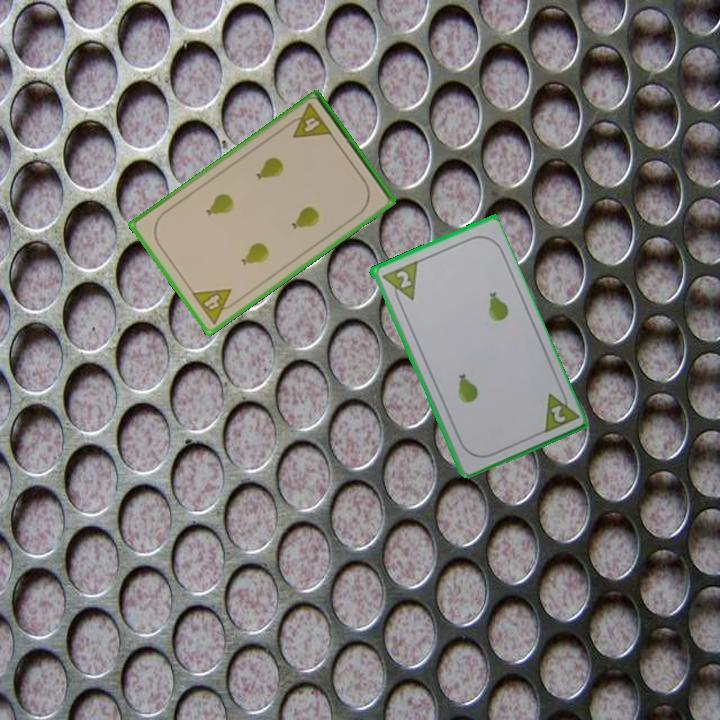2p: (392, 267, 414, 291), (547, 401, 568, 425)
4p: (188, 285, 242, 327), (283, 100, 335, 142)
